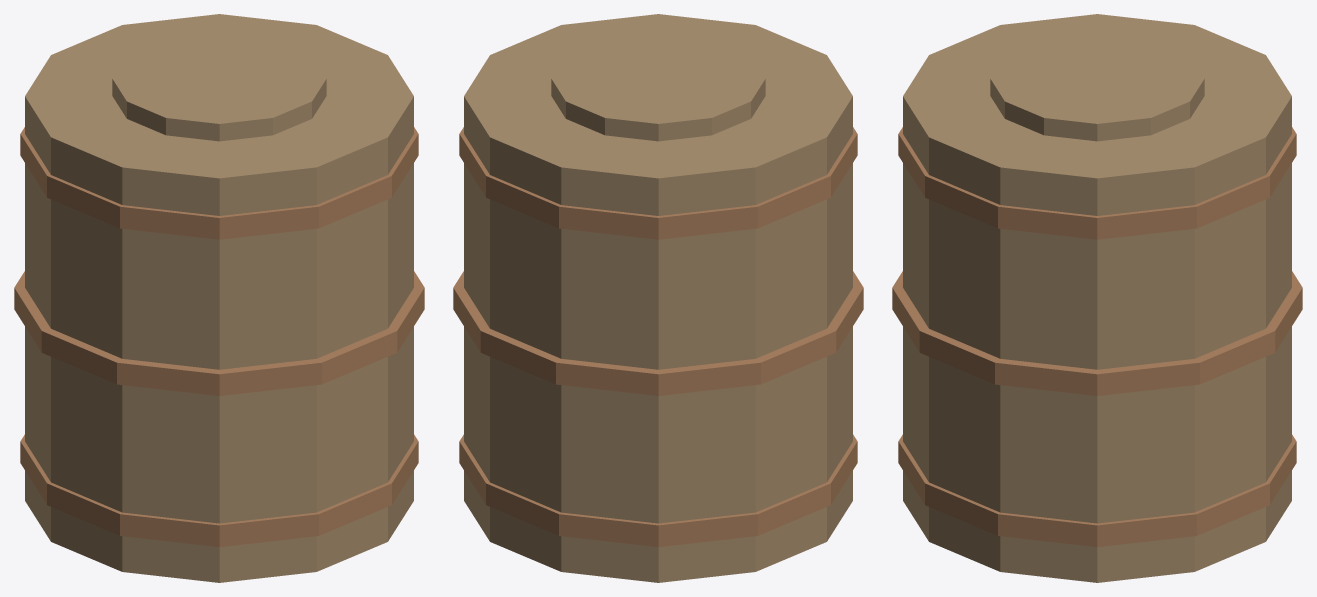
The model's file is mdl_objects_barrel_rum_001.glb.
3 renders of one model, left to right at view 1: azimuth 30°, elevation 25°; view 2: azimuth 150°, elevation 25°; view 3: azimuth 270°, elevation 25°, orthographic.
Parts seen in each view (by area): view 1: m_madera, m_oxido; view 2: m_madera, m_oxido; view 3: m_madera, m_oxido.
Part boxes in pixels (<box>): m_madera: <box>25,14,413,582</box>; m_oxido: <box>14,127,424,547</box>; m_madera: <box>464,14,852,582</box>; m_oxido: <box>453,127,863,547</box>; m_madera: <box>903,14,1291,582</box>; m_oxido: <box>892,127,1302,547</box>.
Size of the model in its own units: 0.8533 by 0.9681 by 0.8533.
